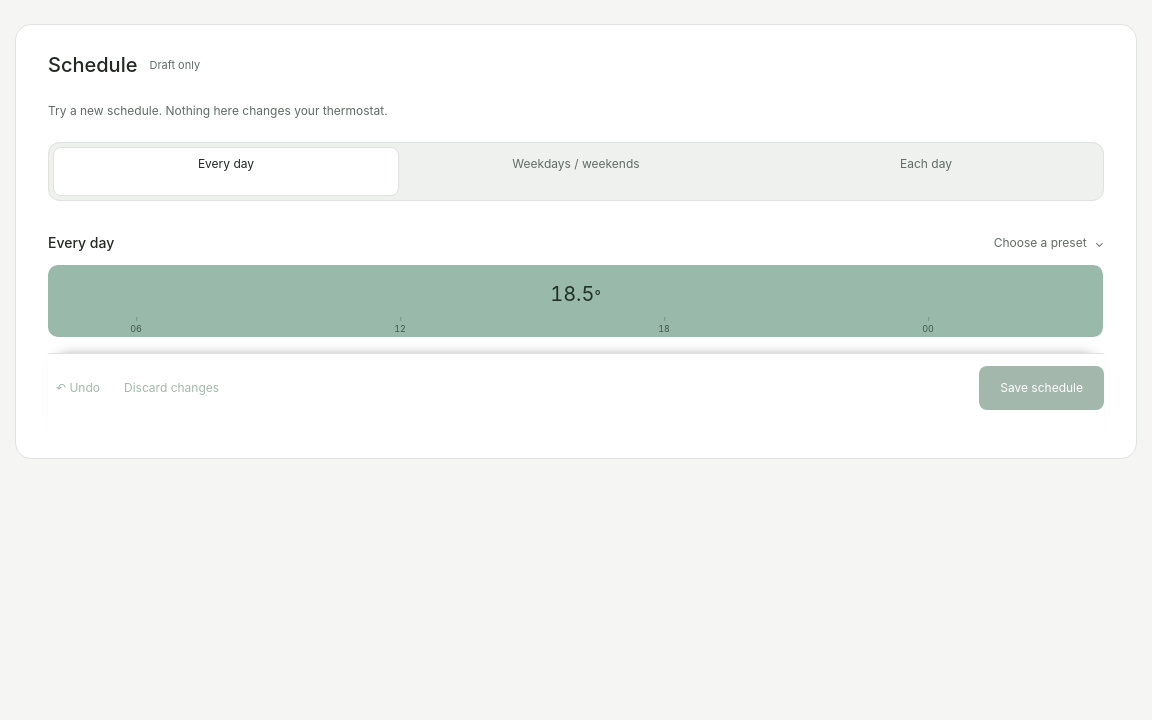
Test: shows preset temperatures and hours before selection, with no request on browsing
The image size is (1152, 720).
Expected: the radio button labelled "Every day" is checked, [53,147,399,196]
What coordinates should you click on to do the following:
click the button "Choose a preset ⌄"
I would click on:
 (1049, 243)
Its box is [994,221,1104,265].
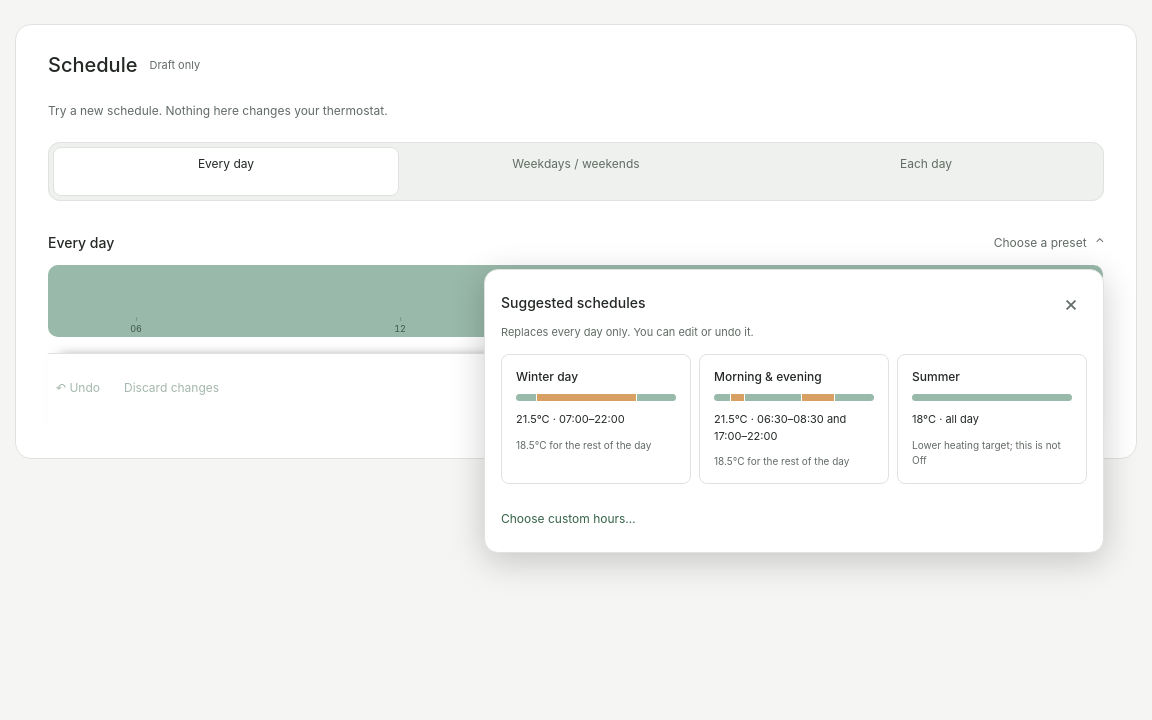
Expected: the text "21.5°C · 07:00–22:00" is shown, [516,411,625,428]
Expected: the text "21.5°C · 06:30–08:30 and 17:00–22:00" is shown, [714,412,846,443]
Expected: the text "18°C · all day" is shown, [912,411,979,428]
